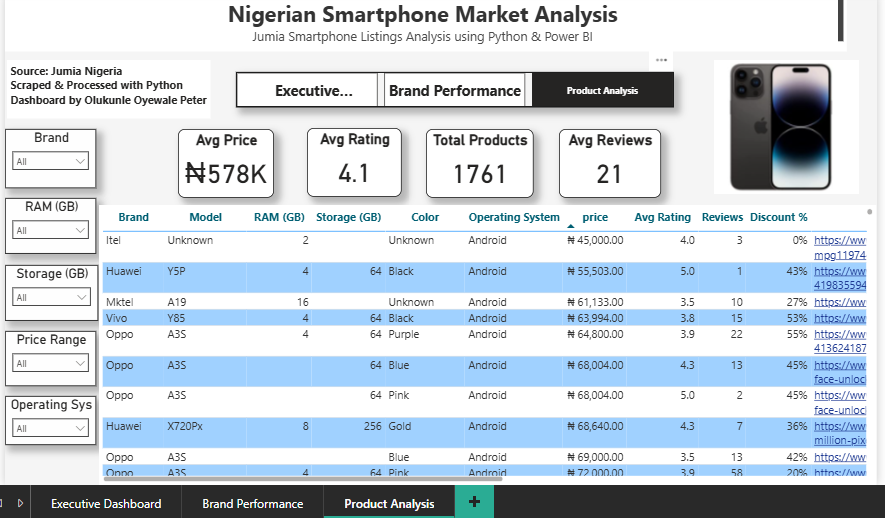

Layout of this report page (visuals, bound fields, positions):
{"tool":"powerbi","page":{"name":"Product Analysis","canvas":[1280,720],"ordinal":2},"visuals":[{"type":"textbox","box":[0,0,1236.7,83.3],"z":0},{"type":"slicer","title":"Brand","fields":{"Values":["Product_variant.Brand"]},"box":[0,196.7,135,80],"z":1000},{"type":"slicer","title":"RAM (GB)","fields":{"Values":["Product_variant.RAM (GB)"]},"box":[0,395.8,135,83.3],"z":2000},{"type":"slicer","title":"Storage (GB)","fields":{"Values":["Product_variant.Storage (GB)"]},"box":[0,497.9,136.7,81.7],"z":3000},{"type":"slicer","title":"Price Range","fields":{"Values":["Product_variant.Price Range"]},"box":[0,598.3,135,81.7],"z":4000},{"type":"card","title":"Avg Price","fields":{"Values":["_Measure.Average Price"]},"box":[253.6,196.5,141.1,100.8],"z":5000},{"type":"card","title":"Avg Rating","fields":{"Values":["_Measure.Average Rating"]},"box":[443.5,194.9,139.4,100.8],"z":6000},{"type":"card","title":"Total Products","fields":{"Values":["_Measure.Total Products"]},"box":[618.2,196.5,157.9,100.8],"z":7000},{"type":"card","title":"Avg Reviews","fields":{"Values":["_Measure.Average Reviews"]},"box":[814.7,196.5,149.5,100.8],"z":8000},{"type":"tableEx","title":"Smartphone Product Details","fields":{"Values":["Product_variant.Brand","Product_variant.Model","Product_variant.RAM (GB)","Product_variant.Storage (GB)","Product_variant.Color","Product_variant.Operating System","Product_variant.price","_Measure.Average Rating","Product_variant.Reviews","Product_variant.Discount  %","Product_variant.link"]},"box":[137.7,309.1,1142.3,411.5],"z":9000},{"type":"simpleImageEBC4593F96F1425FB3D84C5BF02B5075","fields":{"imageURL":["Product_variant.image"]},"box":[1041.5,95.7,213.3,196.5],"z":10000},{"type":"pageNavigator","box":[339.3,112.5,643.4,52.1],"z":11000},{"type":"textbox","box":[3.4,95.7,299,85.7],"z":12000},{"type":"slicer","title":"Model","fields":{"Values":["Product_variant.Model"]},"box":[0,295.4,136.7,81.7],"z":13000}]}

Visuals, with their boxes on the page's 1280x720 design canvas (x1, y1, x2, y2). These are canvas units, not pixel positions in the 885x518 screenshot, which may show the page scaled, cropped or inside an application window:
textbox: (x1=0, y1=0, x2=1237, y2=83)
"Brand" slicer: (x1=0, y1=197, x2=135, y2=277)
"RAM (GB)" slicer: (x1=0, y1=396, x2=135, y2=479)
"Storage (GB)" slicer: (x1=0, y1=498, x2=137, y2=580)
"Price Range" slicer: (x1=0, y1=598, x2=135, y2=680)
"Avg Price" card: (x1=254, y1=196, x2=395, y2=297)
"Avg Rating" card: (x1=444, y1=195, x2=583, y2=296)
"Total Products" card: (x1=618, y1=196, x2=776, y2=297)
"Avg Reviews" card: (x1=815, y1=196, x2=964, y2=297)
"Smartphone Product Details" tableEx: (x1=138, y1=309, x2=1280, y2=721)
simpleImageEBC4593F96F1425FB3D84C5BF02B5075 - Product_variant.image: (x1=1042, y1=96, x2=1255, y2=292)
pageNavigator: (x1=339, y1=112, x2=983, y2=165)
textbox: (x1=3, y1=96, x2=302, y2=181)
"Model" slicer: (x1=0, y1=295, x2=137, y2=377)
